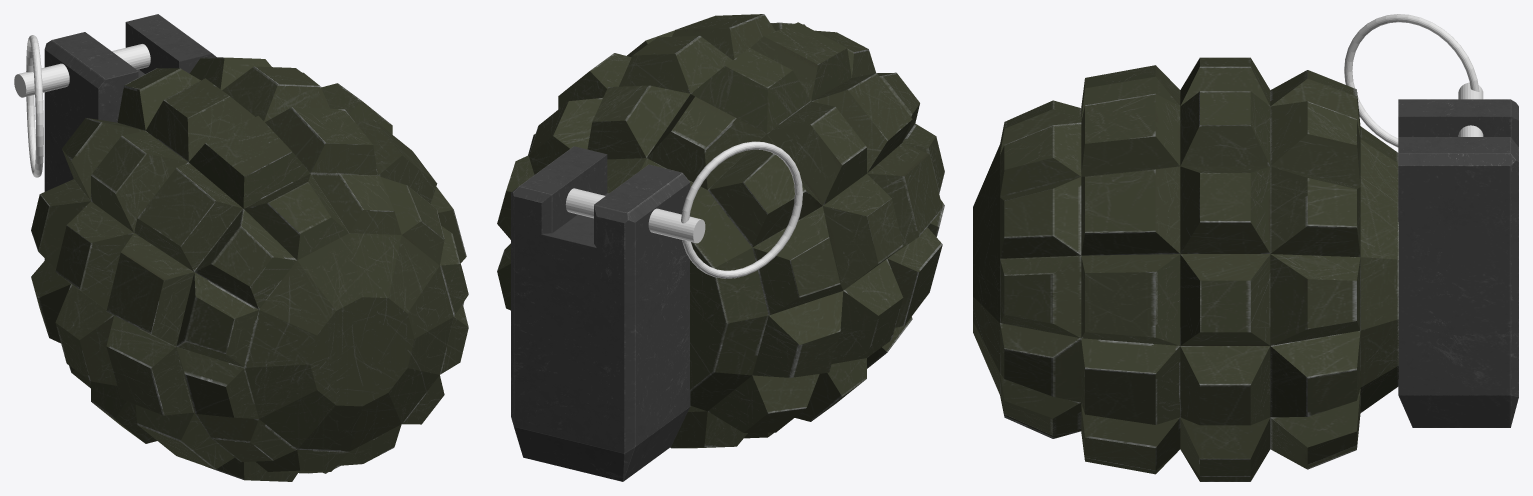
File: grenade.fbx
The picture shows the model from 3 angles, left to right: view 1: azimuth 30°, elevation 25°; view 2: azimuth 150°, elevation 25°; view 3: azimuth 270°, elevation 25°; orthographic projection. The views are drawn at different scales.
Parts seen in each view (by area): view 1: Cylinder, Cube, Torus, Cylinder.001; view 2: Cylinder, Cube, Torus, Cylinder.001; view 3: Cylinder, Cube, Torus, Cylinder.001.
Part boxes in pixels (left/top/right/bottom): Cylinder: left=31, top=57, right=468, bottom=481; Cube: left=44, top=14, right=216, bottom=260; Torus: left=26, top=35, right=43, bottom=177; Cylinder.001: left=14, top=44, right=150, bottom=97; Cylinder: left=497, top=14, right=944, bottom=448; Cube: left=511, top=146, right=690, bottom=481; Torus: left=681, top=141, right=802, bottom=278; Cylinder.001: left=565, top=188, right=705, bottom=243; Cylinder: left=973, top=57, right=1398, bottom=481; Cube: left=1398, top=99, right=1518, bottom=427; Torus: left=1344, top=14, right=1479, bottom=147; Cylinder.001: left=1458, top=82, right=1483, bottom=136.
Size of the model in its own units: 234 by 236 by 303.
